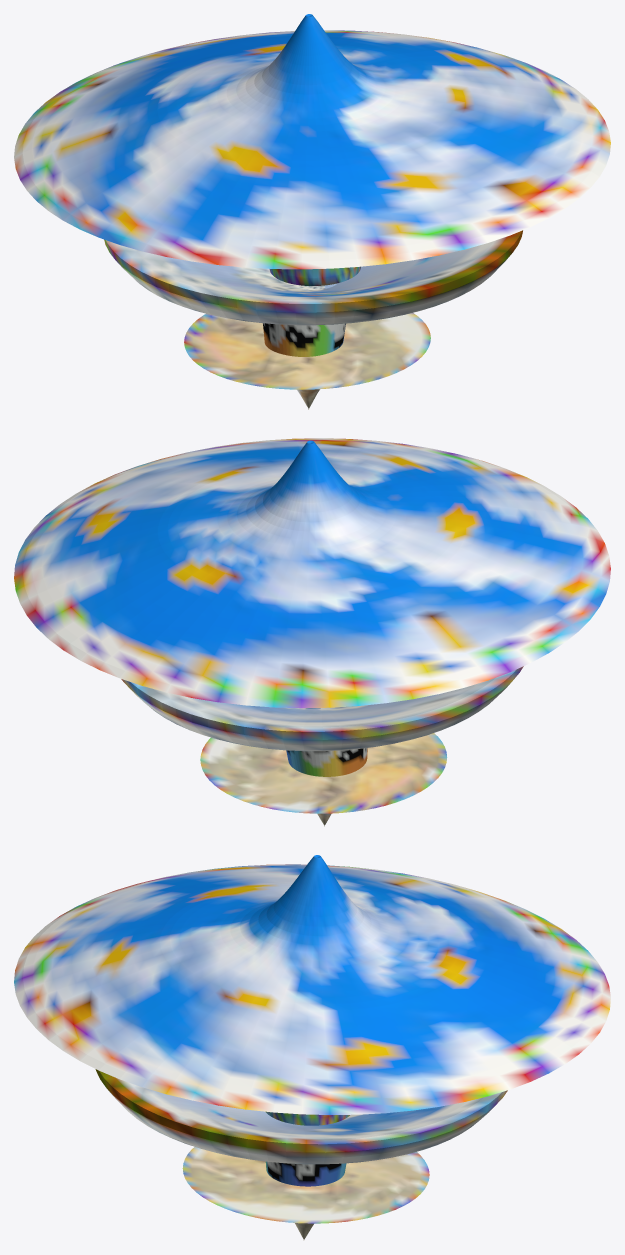
File: april28outdoorpagoda2.glb
3 renders of one model, top to bottom at view 1: azimuth 30°, elevation 25°; view 2: azimuth 150°, elevation 25°; view 3: azimuth 270°, elevation 25°, orthographic.
Parts seen in each view (by area): view 1: Lathe 4, Lathe 3, Lathe, Lathe.001; view 2: Lathe 4, Lathe 3, Lathe, Lathe.001; view 3: Lathe 4, Lathe 3, Lathe, Lathe.001.
Boxes of the visible parts, <box> form: Lathe 4: <box>14,14,610,285</box>; Lathe 3: <box>104,230,522,325</box>; Lathe: <box>184,313,430,409</box>; Lathe.001: <box>263,323,345,356</box>; Lathe 4: <box>14,438,610,708</box>; Lathe 3: <box>121,666,523,751</box>; Lathe: <box>200,733,447,826</box>; Lathe.001: <box>286,748,367,776</box>; Lathe 4: <box>14,855,610,1125</box>; Lathe 3: <box>95,1069,507,1164</box>; Lathe: <box>182,1147,429,1240</box>; Lathe.001: <box>265,1161,346,1186</box>.
Size of the model in its own units: 3.74 by 2.68 by 3.74.
